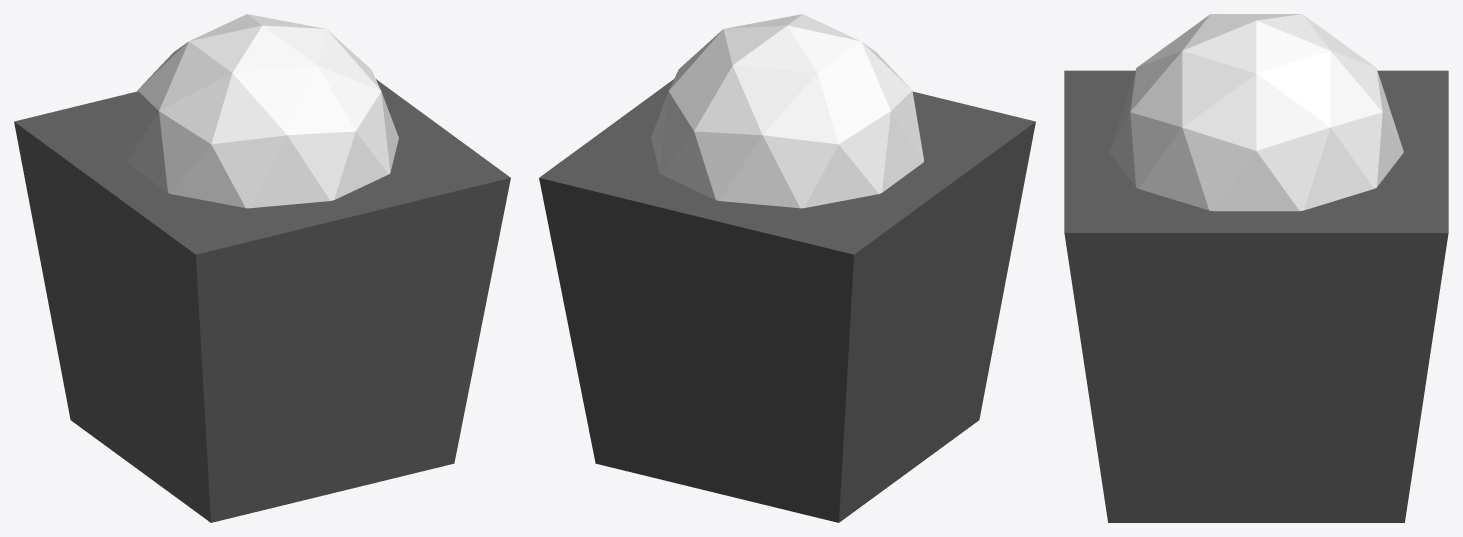
File: basic_ceiling_light.glb
3 renders of one model, left to right at view 1: azimuth 30°, elevation 25°; view 2: azimuth 150°, elevation 25°; view 3: azimuth 270°, elevation 25°, orthographic. The views are drawn at different scales.
Parts seen in each view (by area): view 1: Cube, Icosphere; view 2: Cube, Icosphere; view 3: Cube, Icosphere.
Boxes of the visible parts, x1,y1,x2,y2 form: Cube: [14, 79, 510, 522]; Icosphere: [126, 14, 398, 208]; Cube: [539, 79, 1035, 522]; Icosphere: [651, 14, 923, 208]; Cube: [1064, 70, 1448, 522]; Icosphere: [1109, 14, 1403, 211].
Size of the model in its own units: 2.59 by 3.27 by 2.59.
Materials: 2 (2 with a texture image).
